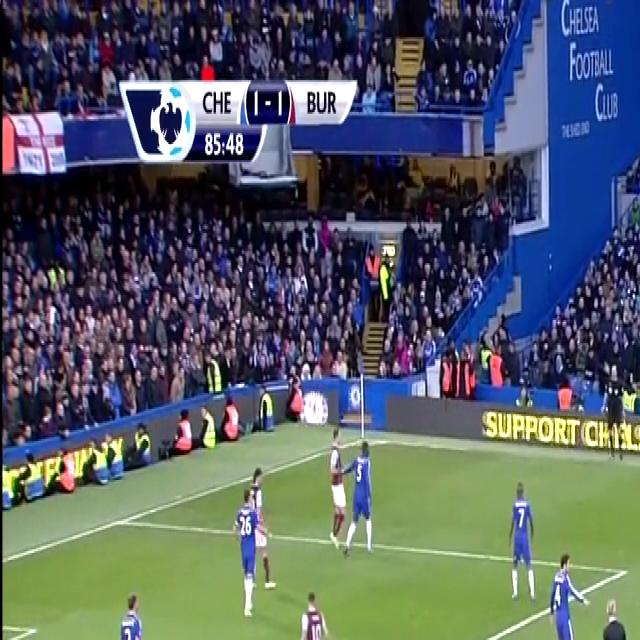referee: (601, 354, 638, 468), (600, 590, 634, 640)
soccer-player: (235, 470, 276, 622), (501, 472, 538, 611), (346, 439, 383, 566), (544, 542, 590, 640), (326, 426, 352, 557), (290, 585, 340, 640), (112, 581, 158, 640)
